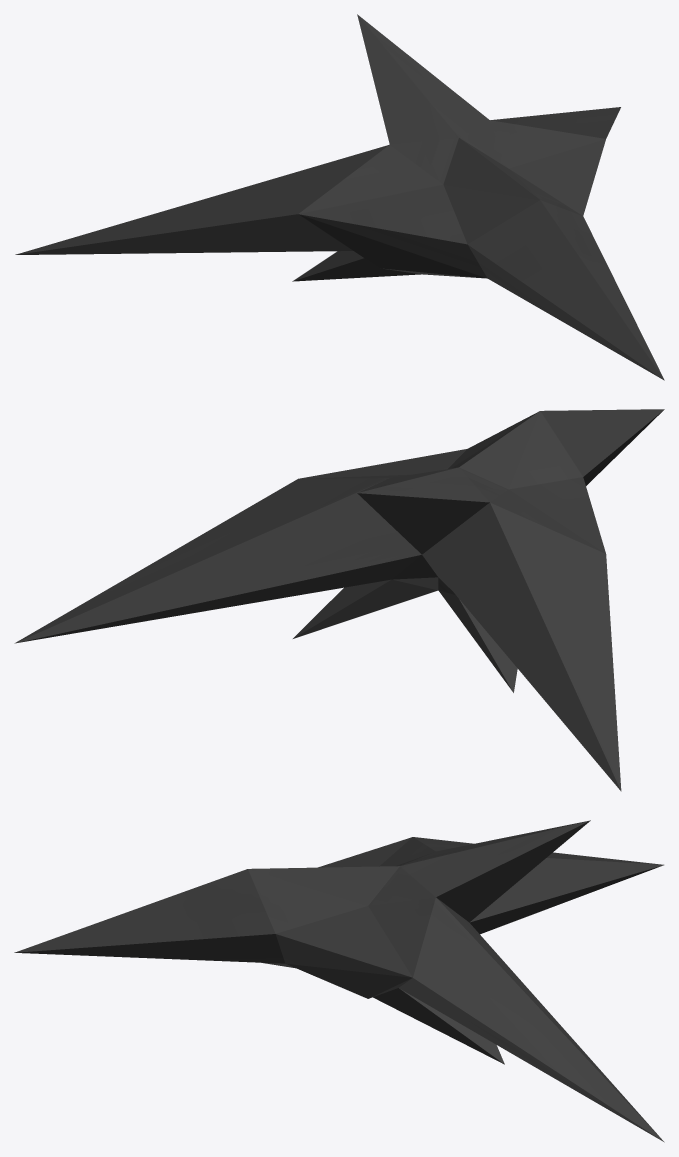
Rendered from fighter.obj.
The picture shows the model from 3 angles, top to bottom: view 1: azimuth 30°, elevation 25°; view 2: azimuth 150°, elevation 25°; view 3: azimuth 270°, elevation 25°; orthographic projection. The views are drawn at different scales.
Visible parts, largest first — view 1: Cube; view 2: Cube; view 3: Cube.
Boxes of the visible parts, x1,y1,x2,y2 form: Cube: (15,14,664,380); Cube: (14,409,664,791); Cube: (14,820,664,1142).
Bounding box in the file's own units: 12.51 × 4.07 × 12.39.
1 material, 1 textured.
